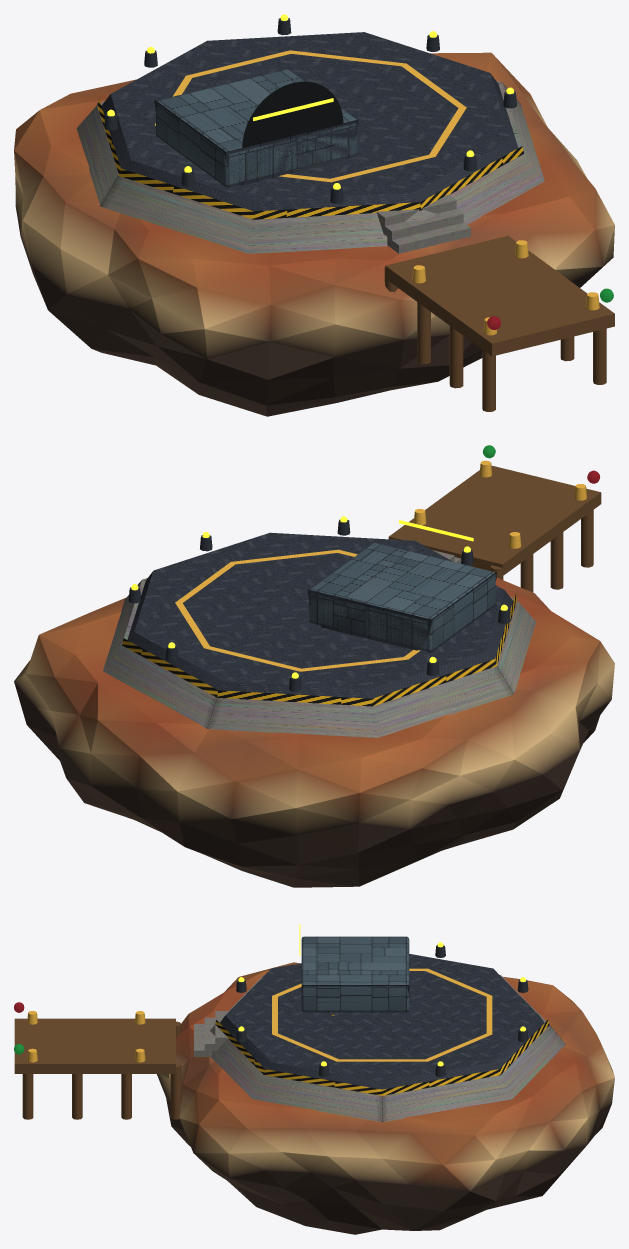
Rendered from garrison-L1.glb.
3 views of the same model, one above another, from view 1: azimuth 30°, elevation 25°; view 2: azimuth 150°, elevation 25°; view 3: azimuth 270°, elevation 25° (orthographic). The views are drawn at different scales.
Visible parts, largest first — view 1: object 1, object 4, object 2, object 25, object 38, object 40, object 3, object 39, object 5, object 22, object 23, object 24 (+4 smaller); view 2: object 1, object 4, object 2, object 38, object 25, object 39, object 3, object 5, object 30, object 32; view 3: object 1, object 4, object 2, object 25, object 38, object 3, object 5, object 27, object 33, object 29, object 31.
Boxes of the visible parts, x1,y1,x2,y2 form: object 1: [14, 52, 614, 416]; object 4: [101, 32, 518, 211]; object 2: [76, 81, 544, 253]; object 25: [385, 235, 614, 356]; object 38: [156, 69, 357, 187]; object 40: [242, 81, 343, 148]; object 3: [97, 98, 523, 219]; object 39: [154, 100, 358, 185]; object 5: [155, 50, 466, 182]; object 22: [387, 222, 470, 253]; object 23: [380, 209, 463, 239]; object 24: [376, 194, 456, 226]; object 1: [14, 578, 614, 887]; object 4: [127, 532, 512, 698]; object 2: [103, 578, 535, 737]; object 38: [309, 543, 495, 652]; object 25: [388, 465, 601, 575]; object 39: [308, 572, 496, 650]; object 3: [122, 594, 517, 706]; object 5: [175, 549, 420, 671]; object 30: [550, 532, 563, 589]; object 32: [581, 510, 593, 567]; object 1: [157, 962, 614, 1234]; object 4: [220, 954, 544, 1089]; object 2: [210, 975, 565, 1122]; object 25: [14, 1018, 175, 1073]; object 38: [301, 936, 409, 1012]; object 3: [215, 1019, 549, 1095]; object 5: [272, 968, 492, 1061]; object 27: [170, 1062, 181, 1119]; object 33: [22, 1074, 33, 1119]; object 29: [121, 1074, 131, 1119]; object 31: [72, 1074, 82, 1119].
Size of the model in its own units: 5.21 by 3.02 by 6.7.
Materials: 16 (6 with a texture image).
